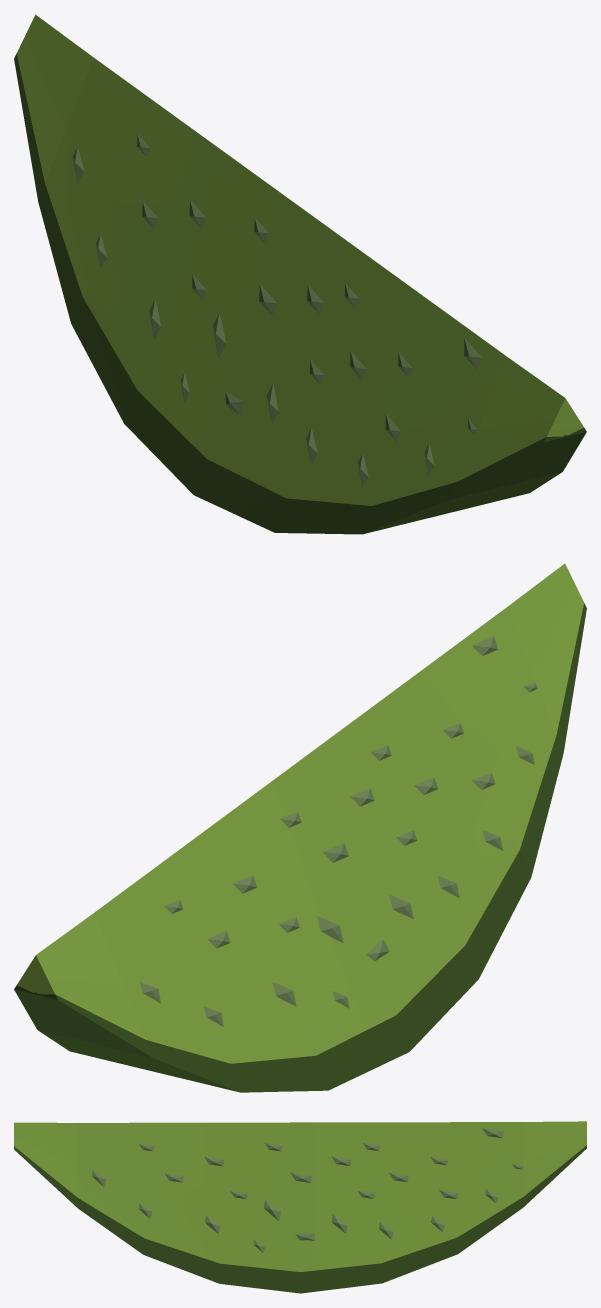
The model's file is Watermelon_02.fbx.
The picture shows the model from 3 angles, top to bottom: view 1: azimuth 30°, elevation 25°; view 2: azimuth 150°, elevation 25°; view 3: azimuth 270°, elevation 25°; orthographic projection. The views are drawn at different scales.
Parts seen in each view (by area): view 1: Watermelon_02; view 2: Watermelon_02; view 3: Watermelon_02.
Boxes of the visible parts, x1,y1,x2,y2 form: Watermelon_02: (14, 14, 586, 534); Watermelon_02: (14, 563, 586, 1092); Watermelon_02: (14, 1121, 586, 1293).
Bounding box in the file's own units: 0.0953 × 0.1115 × 0.4048.
